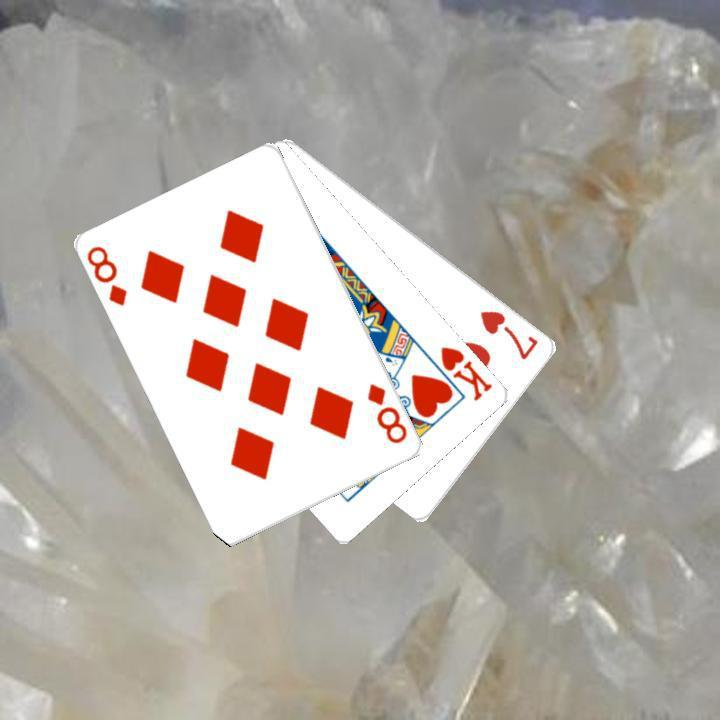7: (476, 306, 541, 362)
8: (83, 241, 130, 309), (363, 379, 410, 446)
K: (436, 342, 495, 403)
